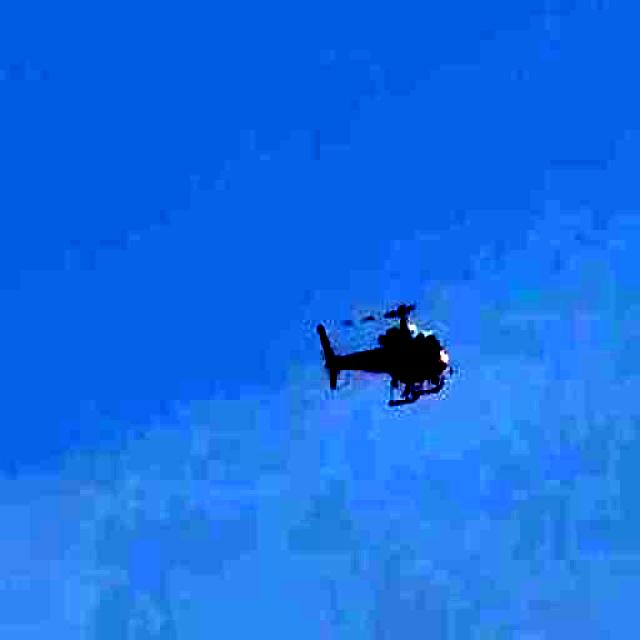drone: (290, 251, 506, 441)
